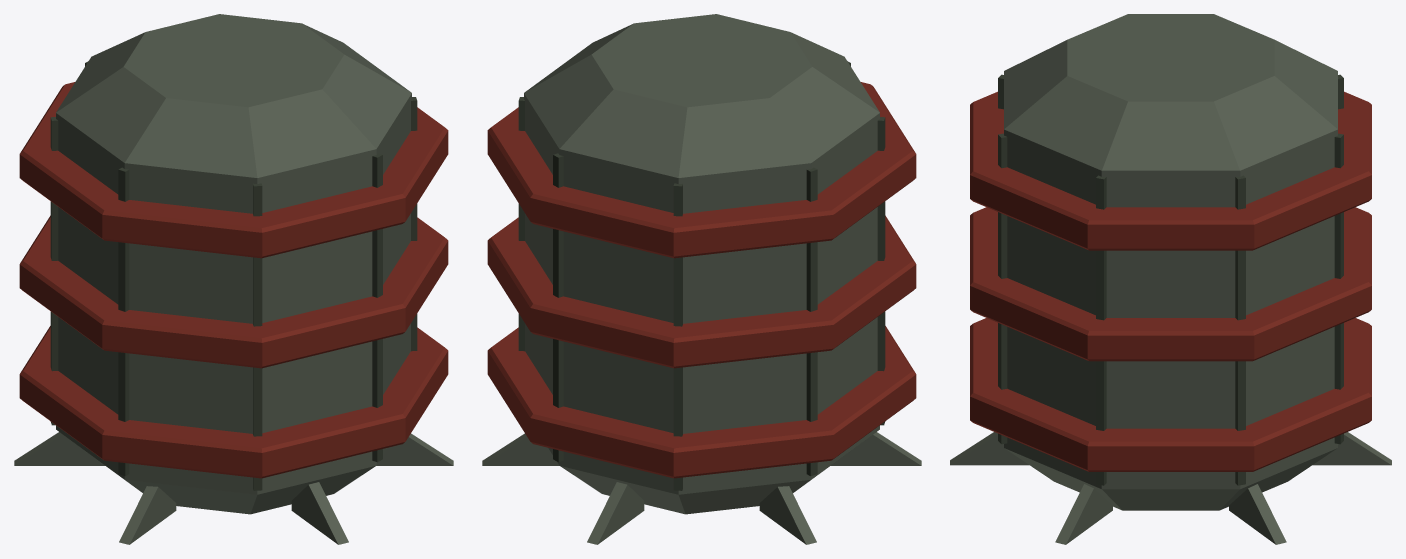
File: s150_vessel.obj
The picture shows the model from 3 angles, left to right: view 1: azimuth 30°, elevation 25°; view 2: azimuth 150°, elevation 25°; view 3: azimuth 270°, elevation 25°; orthographic projection.
Parts seen in each view (by area): view 1: s150_vessel; view 2: s150_vessel; view 3: s150_vessel.
Boxes of the visible parts, x1,y1,x2,y2 form: s150_vessel: (14, 14, 453, 544); s150_vessel: (482, 14, 921, 544); s150_vessel: (950, 14, 1391, 544).
Size of the model in its own units: 1.14 by 1.27 by 1.25.
